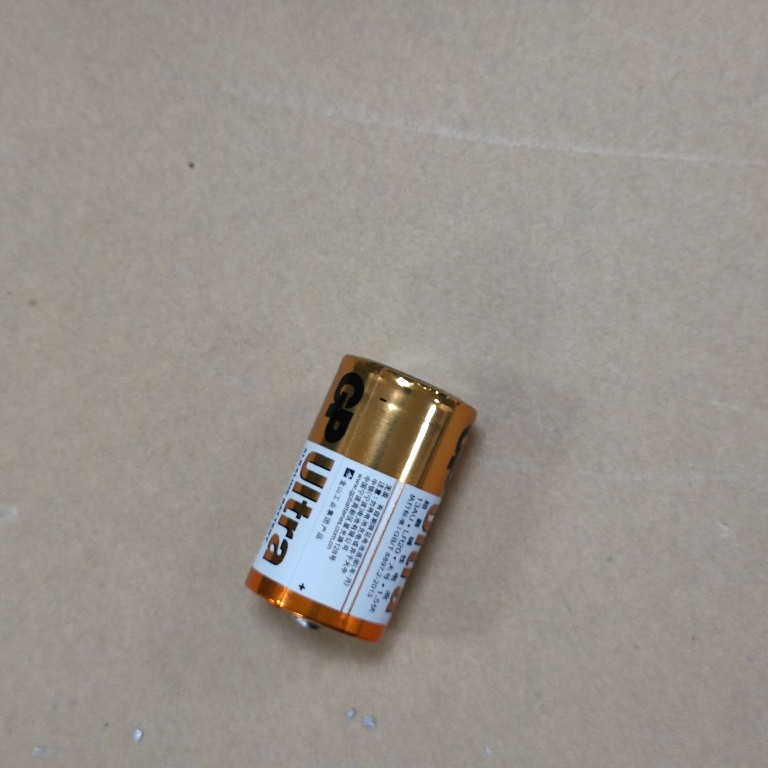charge: (231, 342, 484, 656)
